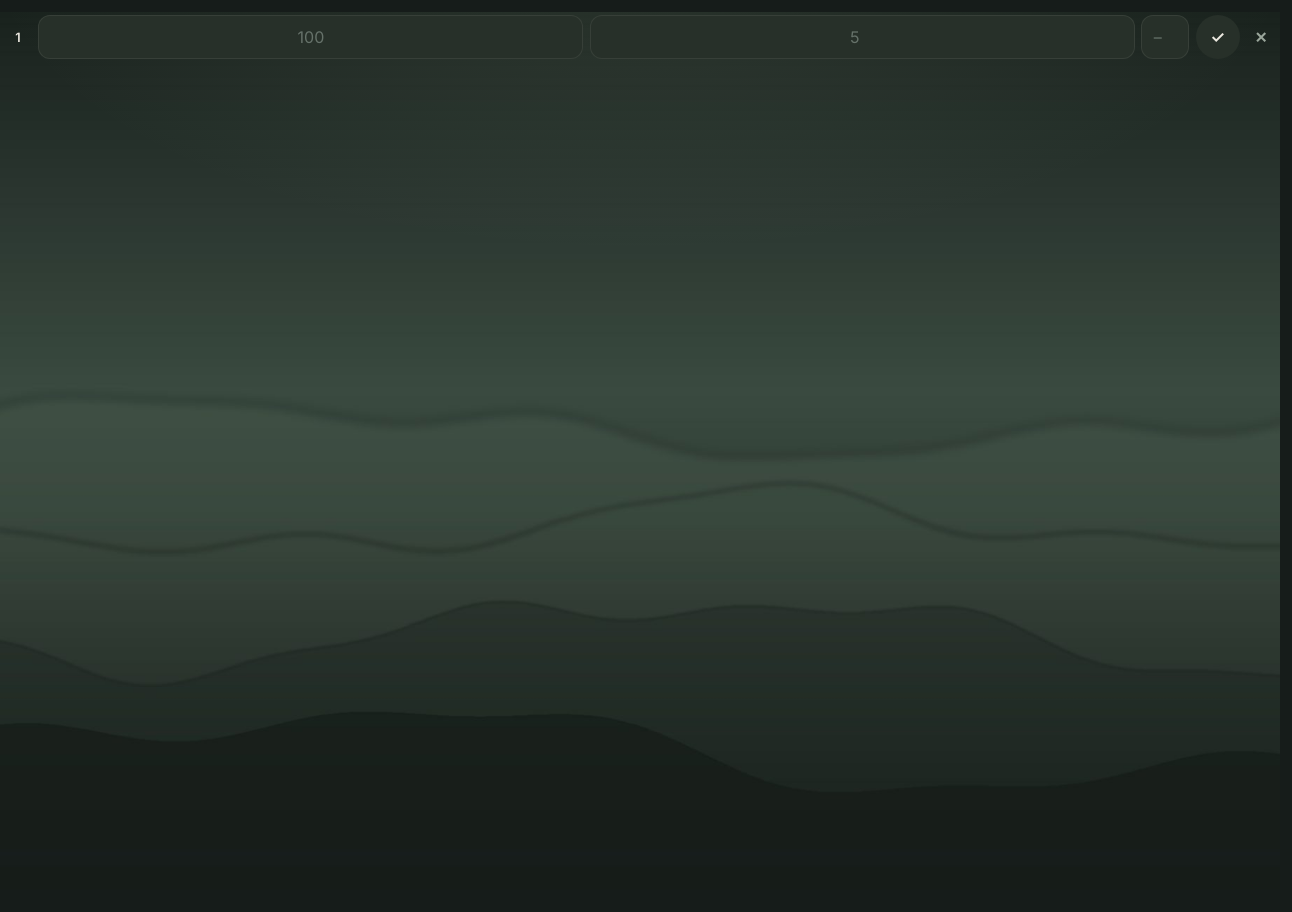
SetRow input handling › completing with empty fields inherits the previous session values
Click the button named "Mark set complete". click: {"x": 1218, "y": 37}
box: [1196, 15, 1240, 59]
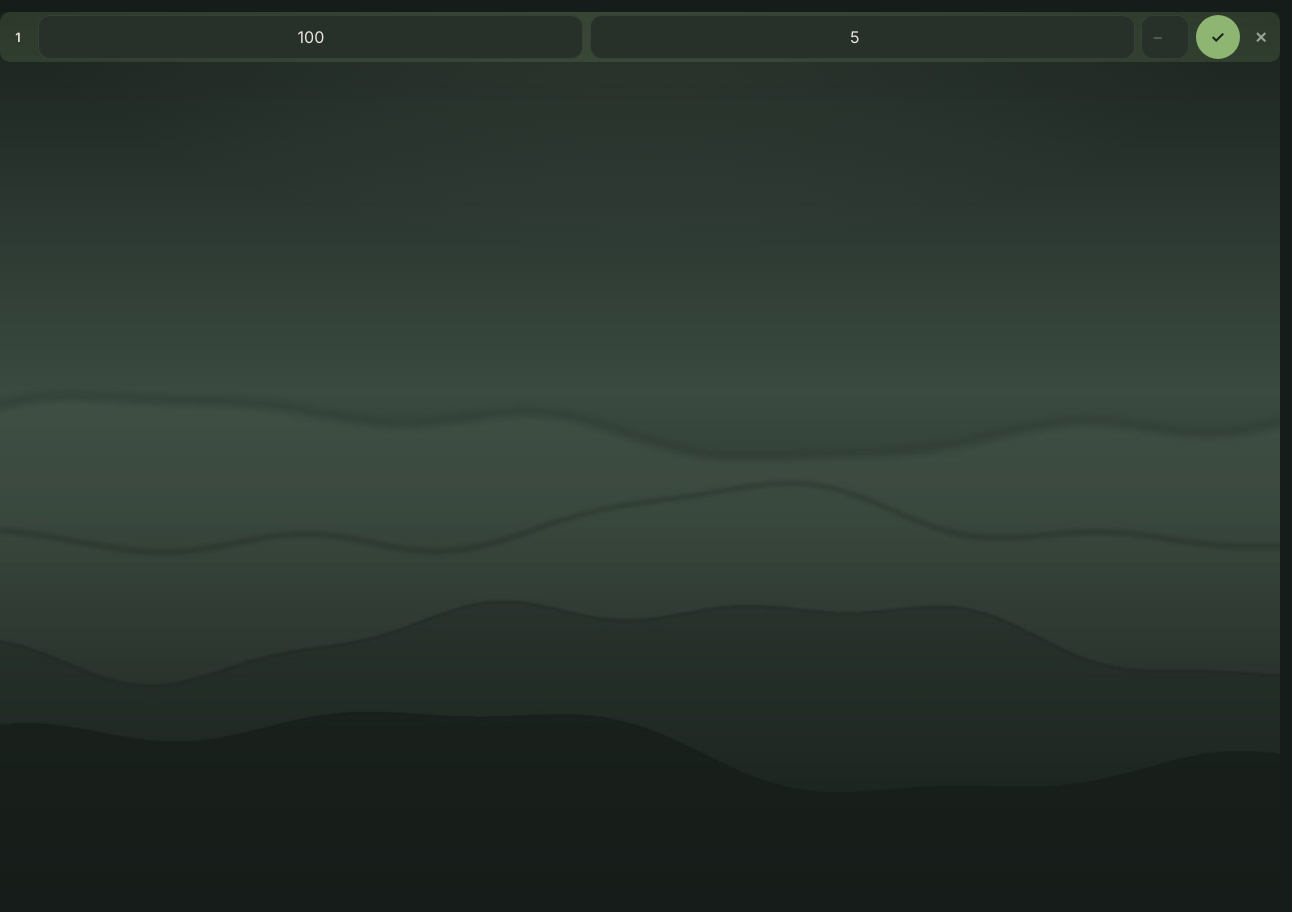
Expected: the field named "Weight (kg)" holds "100", [38, 15, 583, 59]
